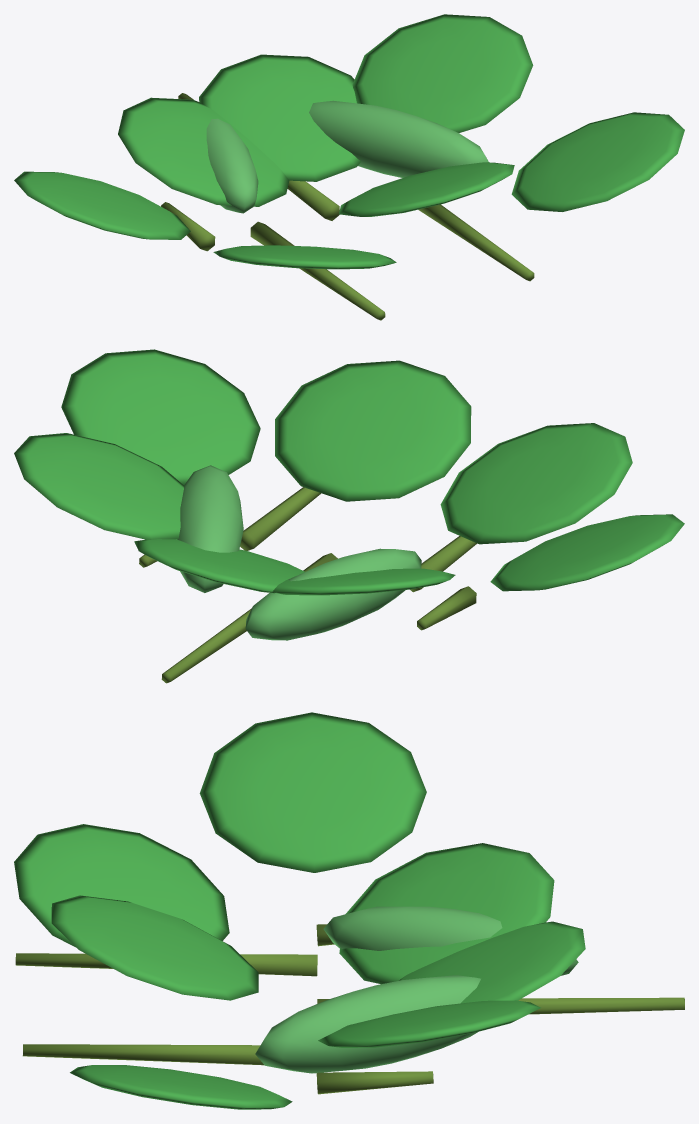
Rendered from vine_long.glb.
3 views of the same model, one above another, from view 1: azimuth 30°, elevation 25°; view 2: azimuth 150°, elevation 25°; view 3: azimuth 270°, elevation 25° (orthographic). The views are drawn at different scales.
Visible parts, largest first — view 1: Leaf, Fruit, Stem; view 2: Leaf, Fruit, Stem; view 3: Leaf, Fruit, Stem.
Boxes of the visible parts, box(x1,y1,x2,y2) form: Leaf: box(14, 14, 684, 269); Fruit: box(206, 100, 488, 213); Stem: box(161, 93, 534, 320); Leaf: box(14, 349, 684, 595); Fruit: box(177, 465, 421, 640); Stem: box(139, 487, 476, 683); Leaf: box(14, 712, 585, 1109); Fruit: box(255, 906, 578, 1073); Stem: box(15, 924, 684, 1094).
Bounding box in the file's own units: 1.26 × 0.2063 × 1.
